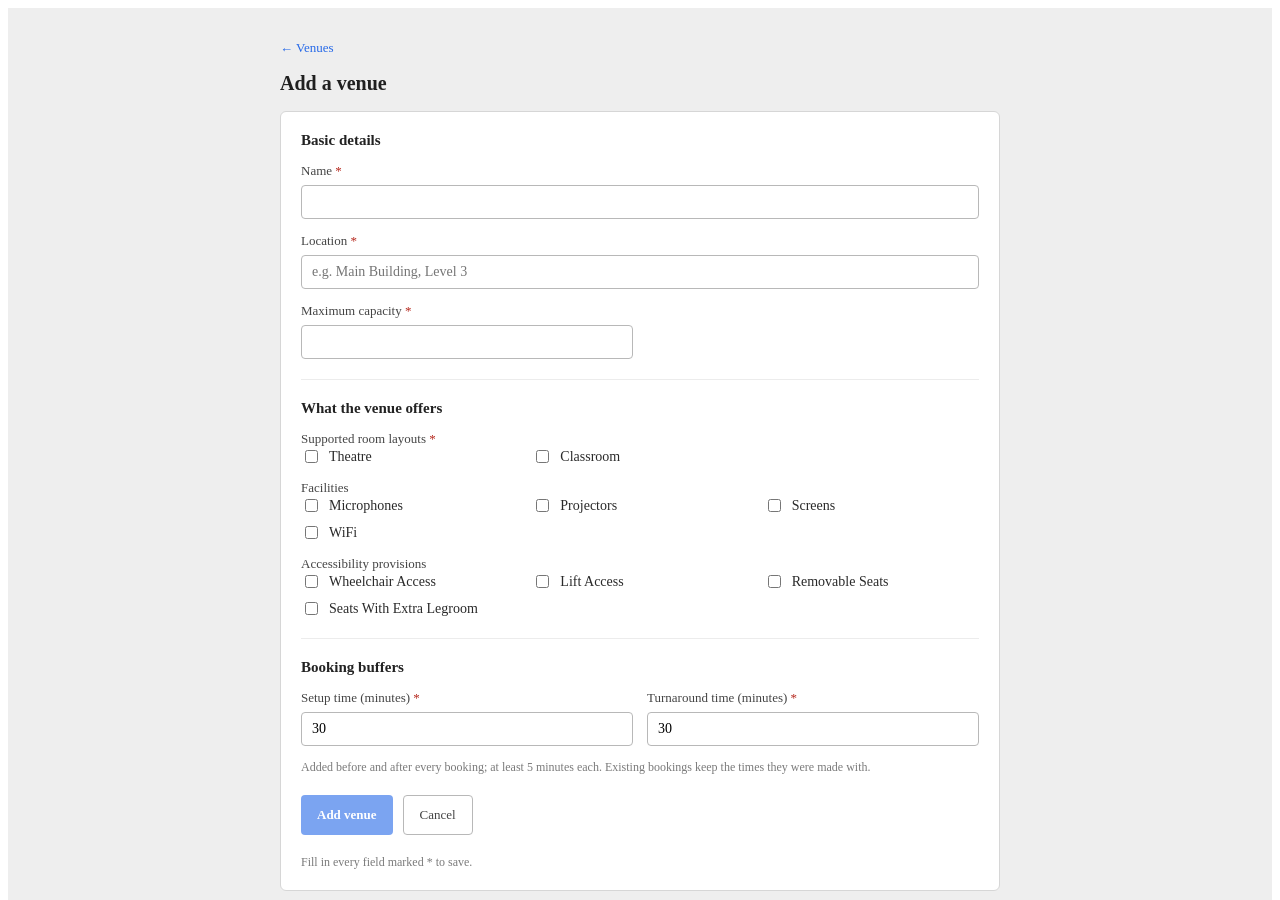
Test case: VenueFormView -- checks as you go › keeps Save disabled until every required field is filled
Expected: the submit button is disabled, [301,795,393,835]
Expected: the text "Fill in every field marked * to save." is shown, [301,855,472,869]
Type "Annex" into the field labelled "Name *". click: [640, 202]
box: [301,185,979,219]
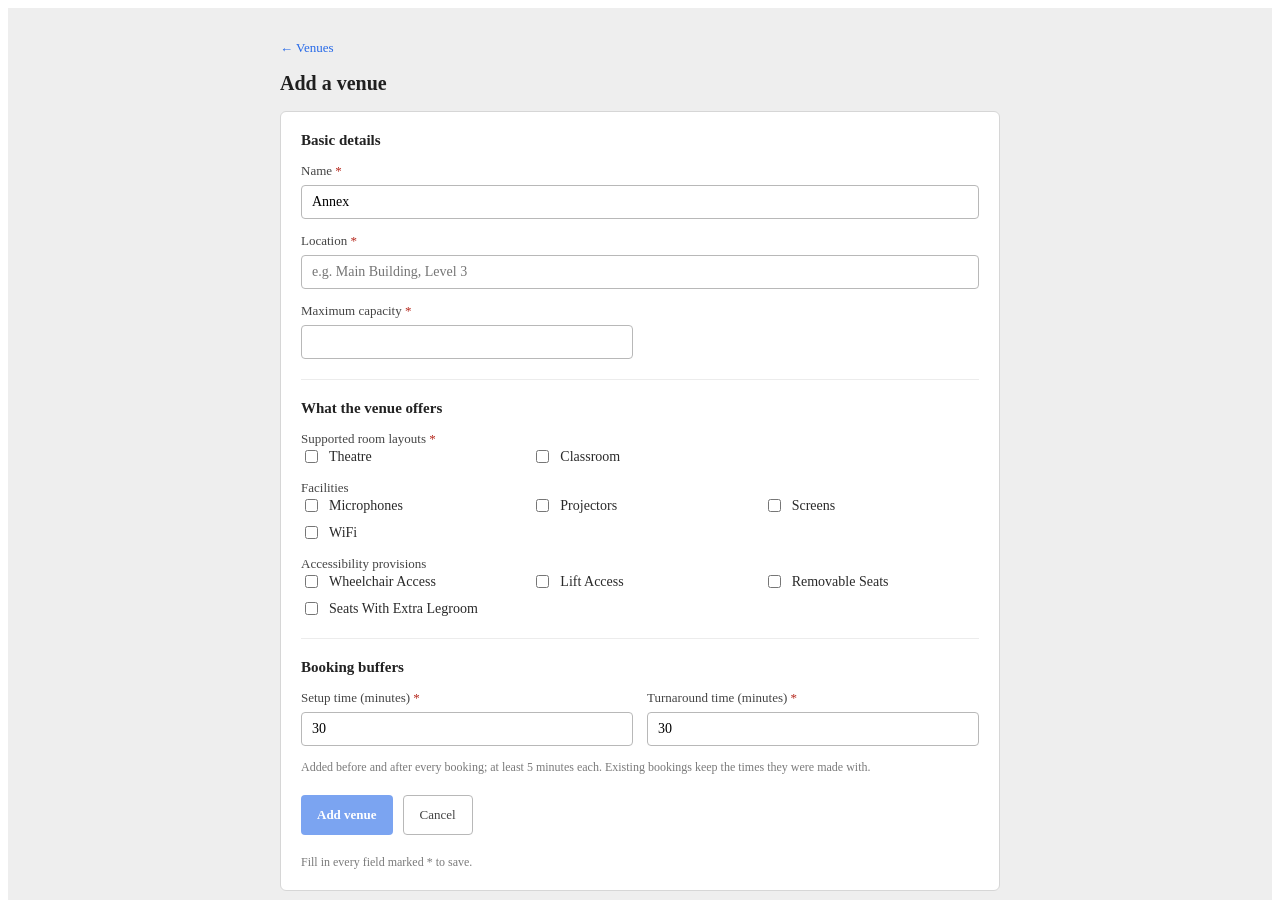
Type "East Campus" into the field labelled "Location *". click: [640, 272]
box: [301,255,979,289]
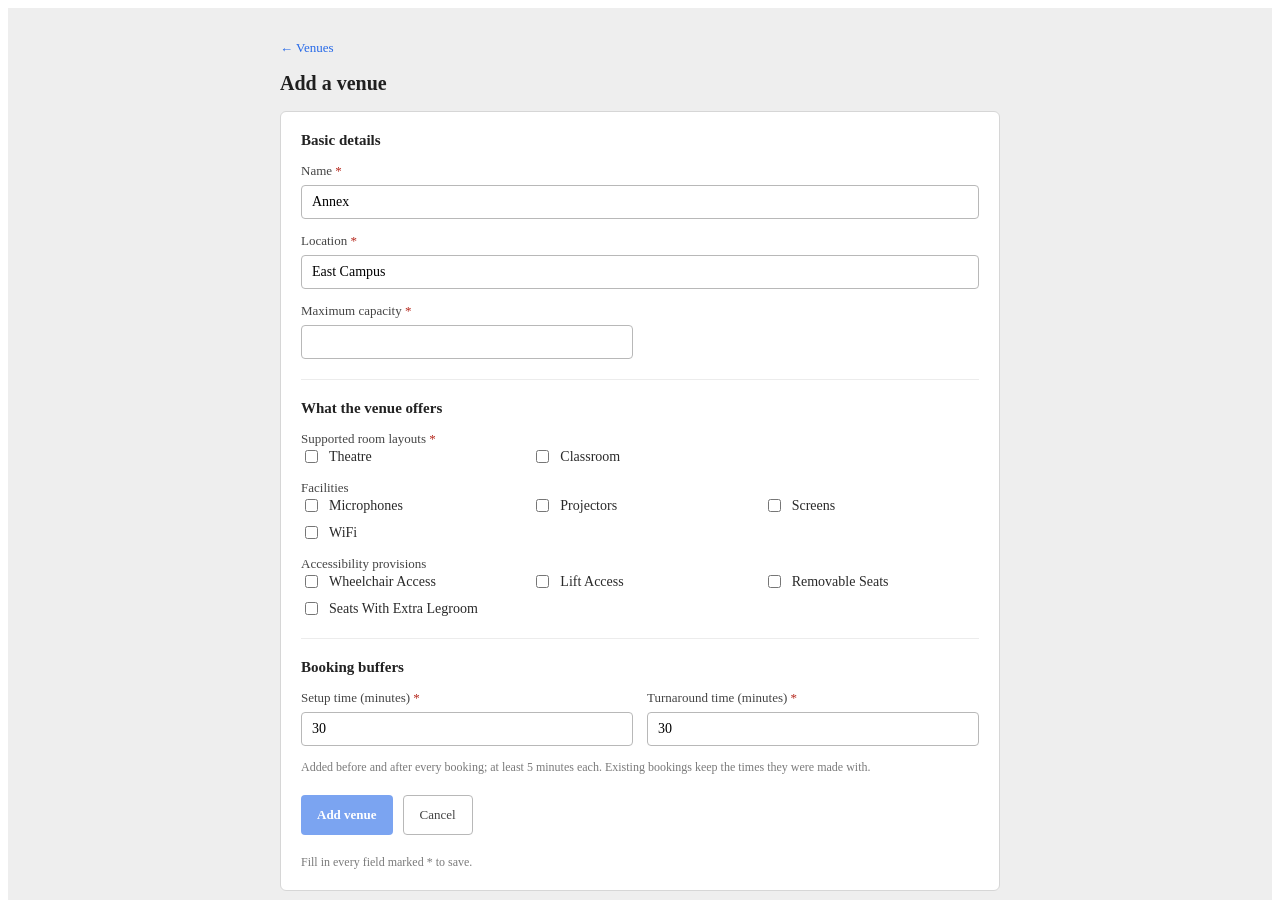
Type "40" into the number field labelled "Maximum capacity *". click: [467, 342]
box: [301,325,633,359]
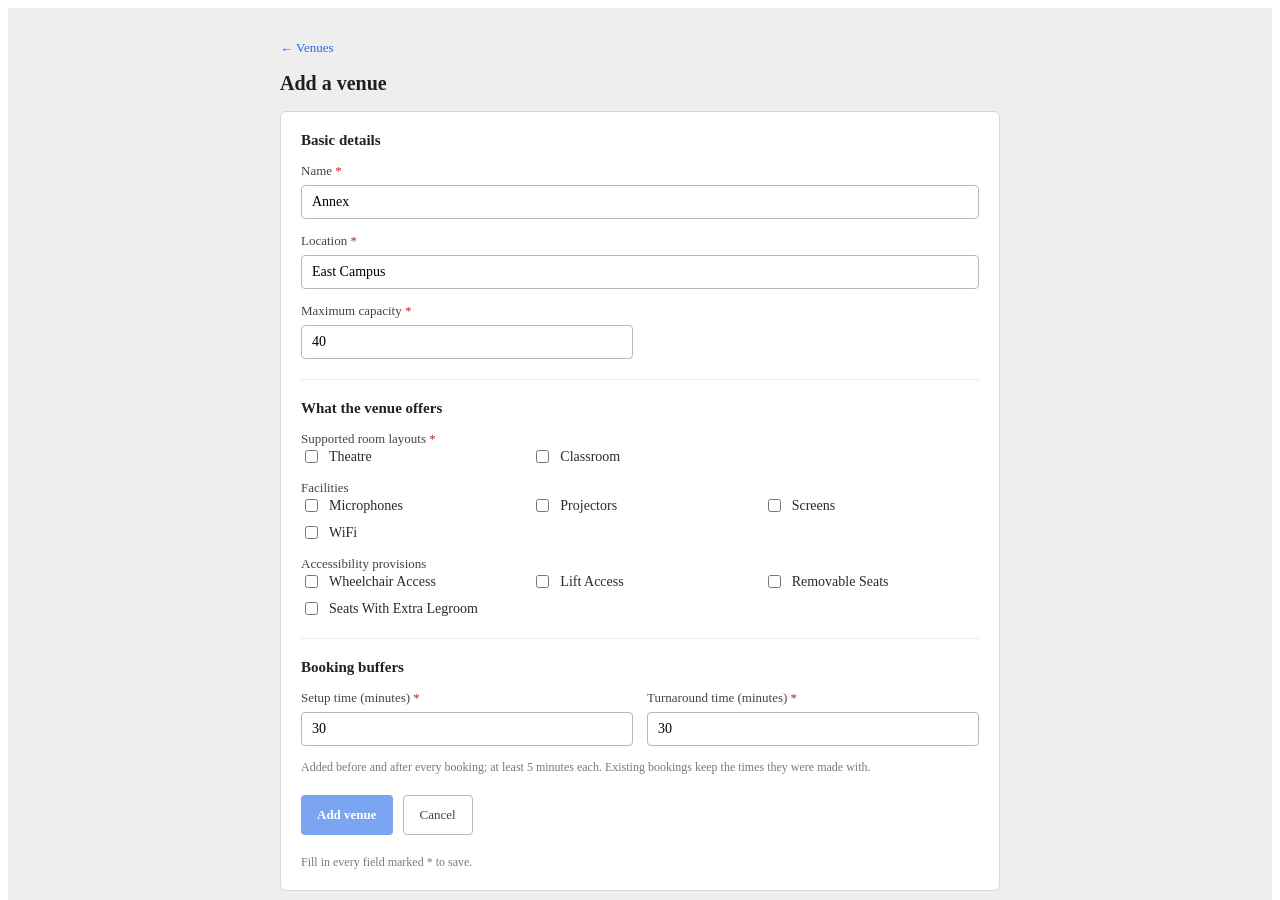
Expected: the submit button is disabled, [301,795,393,835]
Click the checkbox labelled "classroom". click: [543, 456]
box: [536,450,549,463]
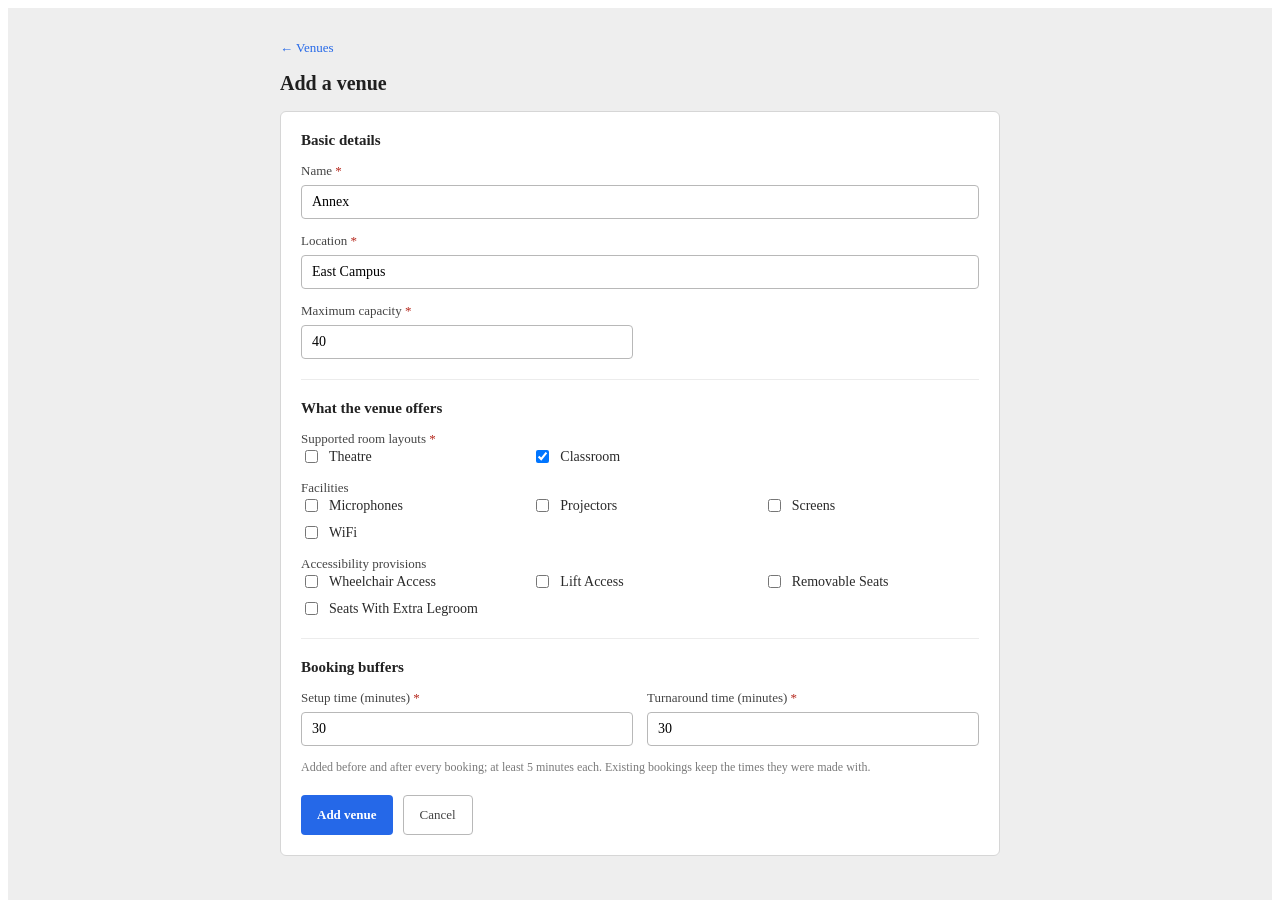
Expected: the submit button is enabled, [301,795,393,835]
